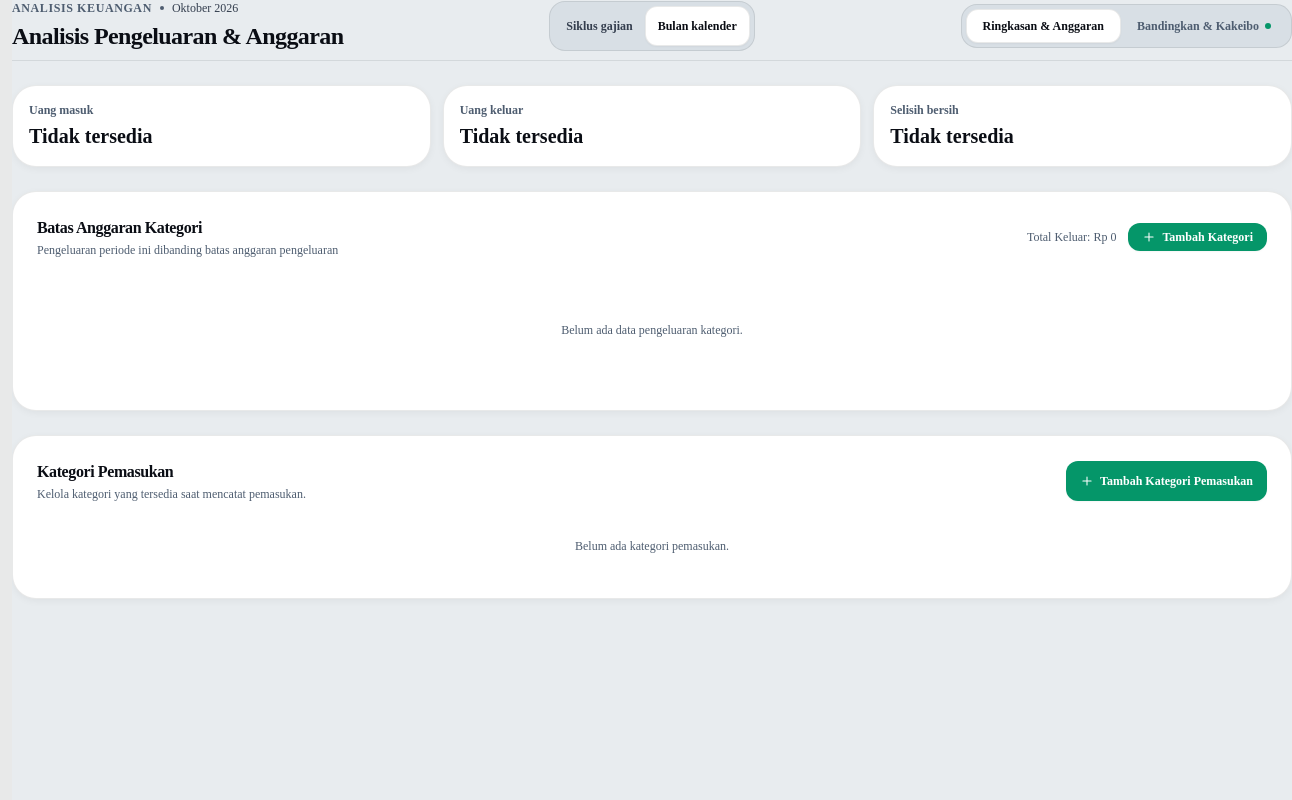
it: observed insights › compares the same elapsed days and links each change to its exact window
Click the button "Bandingkan & Kakeibo" at (1204, 26), box [1121, 10, 1287, 42]
(page scrolled)
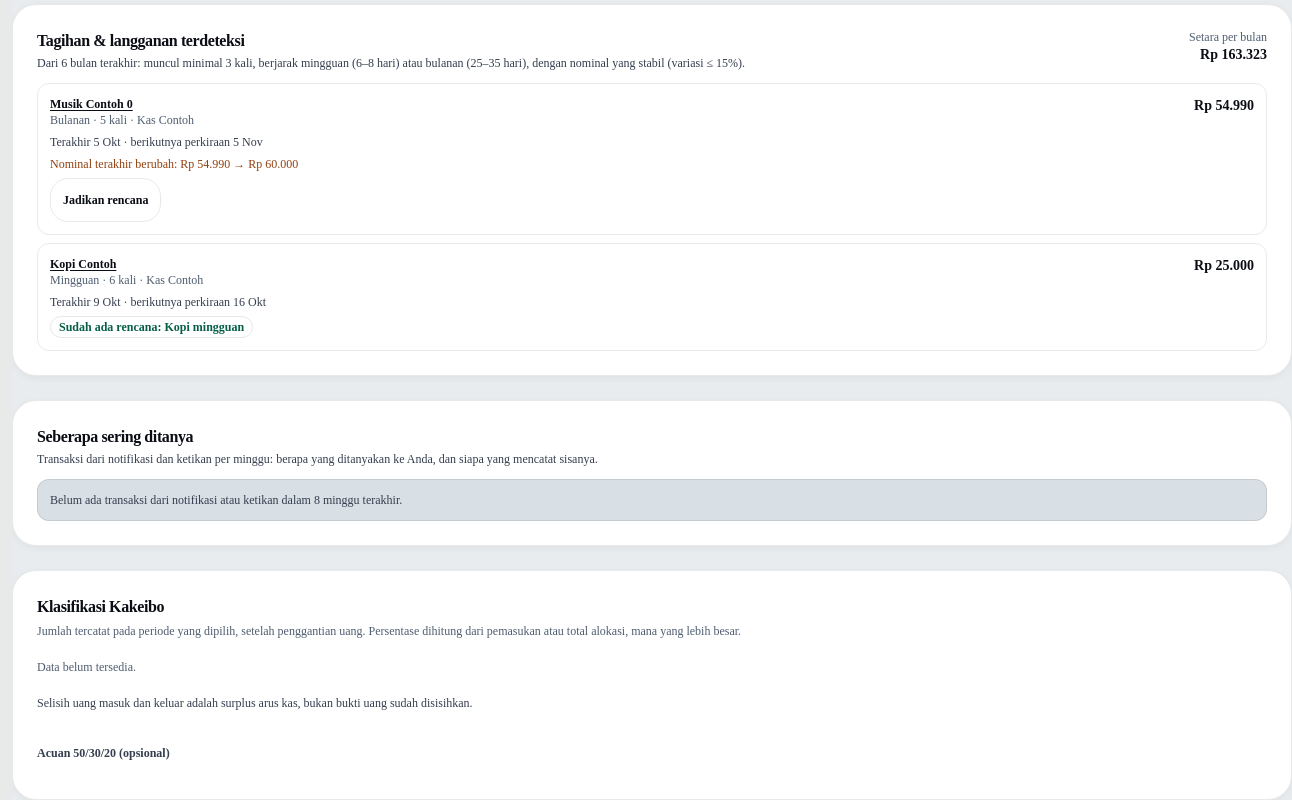
Expected: the element "Seberapa sering ditanya" is shown, [12, 400, 1291, 546]
